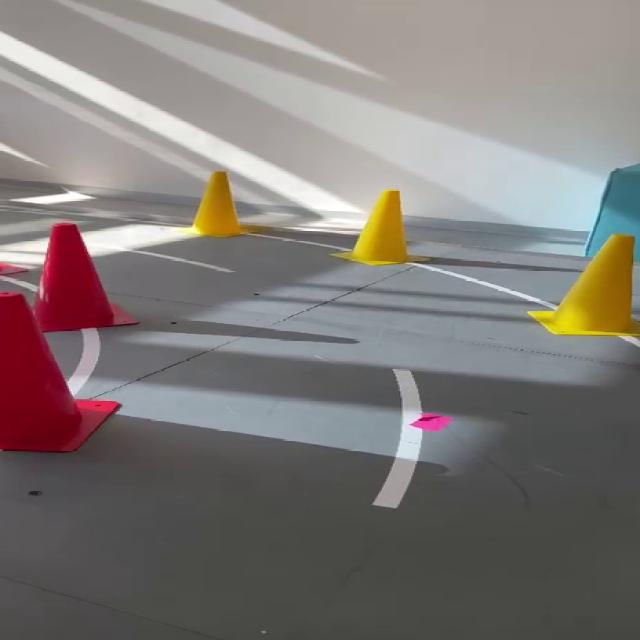Cone-red: (0, 292, 119, 452), (34, 223, 138, 332)
Cones-yellow: (528, 235, 639, 338), (332, 191, 428, 265), (185, 172, 254, 237)
